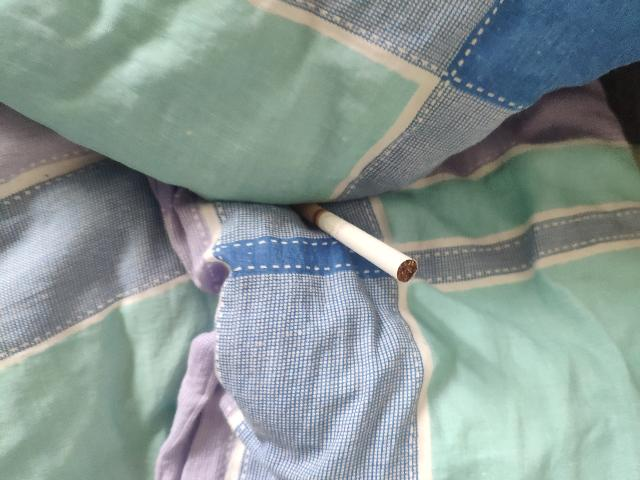Cigarette: (292, 201, 421, 283)
